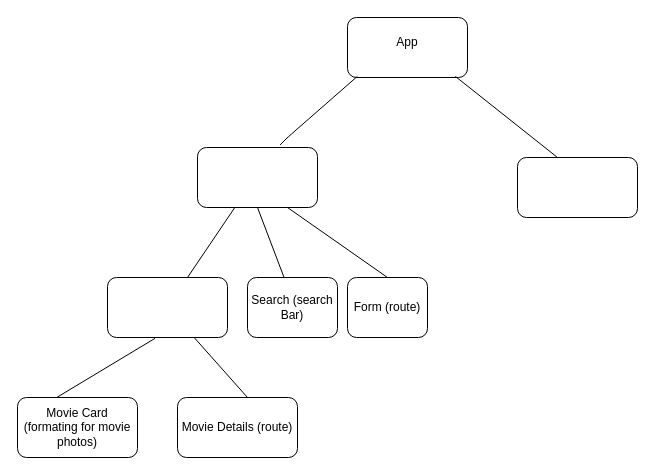
The diagram is 655 pixels wide and 475 high, and some of its shapes have lost their labels. Each missing label, with the centre of its shape:
"Header (routes)" goes at [577,187].
"Movie Collection" goes at [167,307].
"Movie Page (fetch,route)" goes at [257,177].
